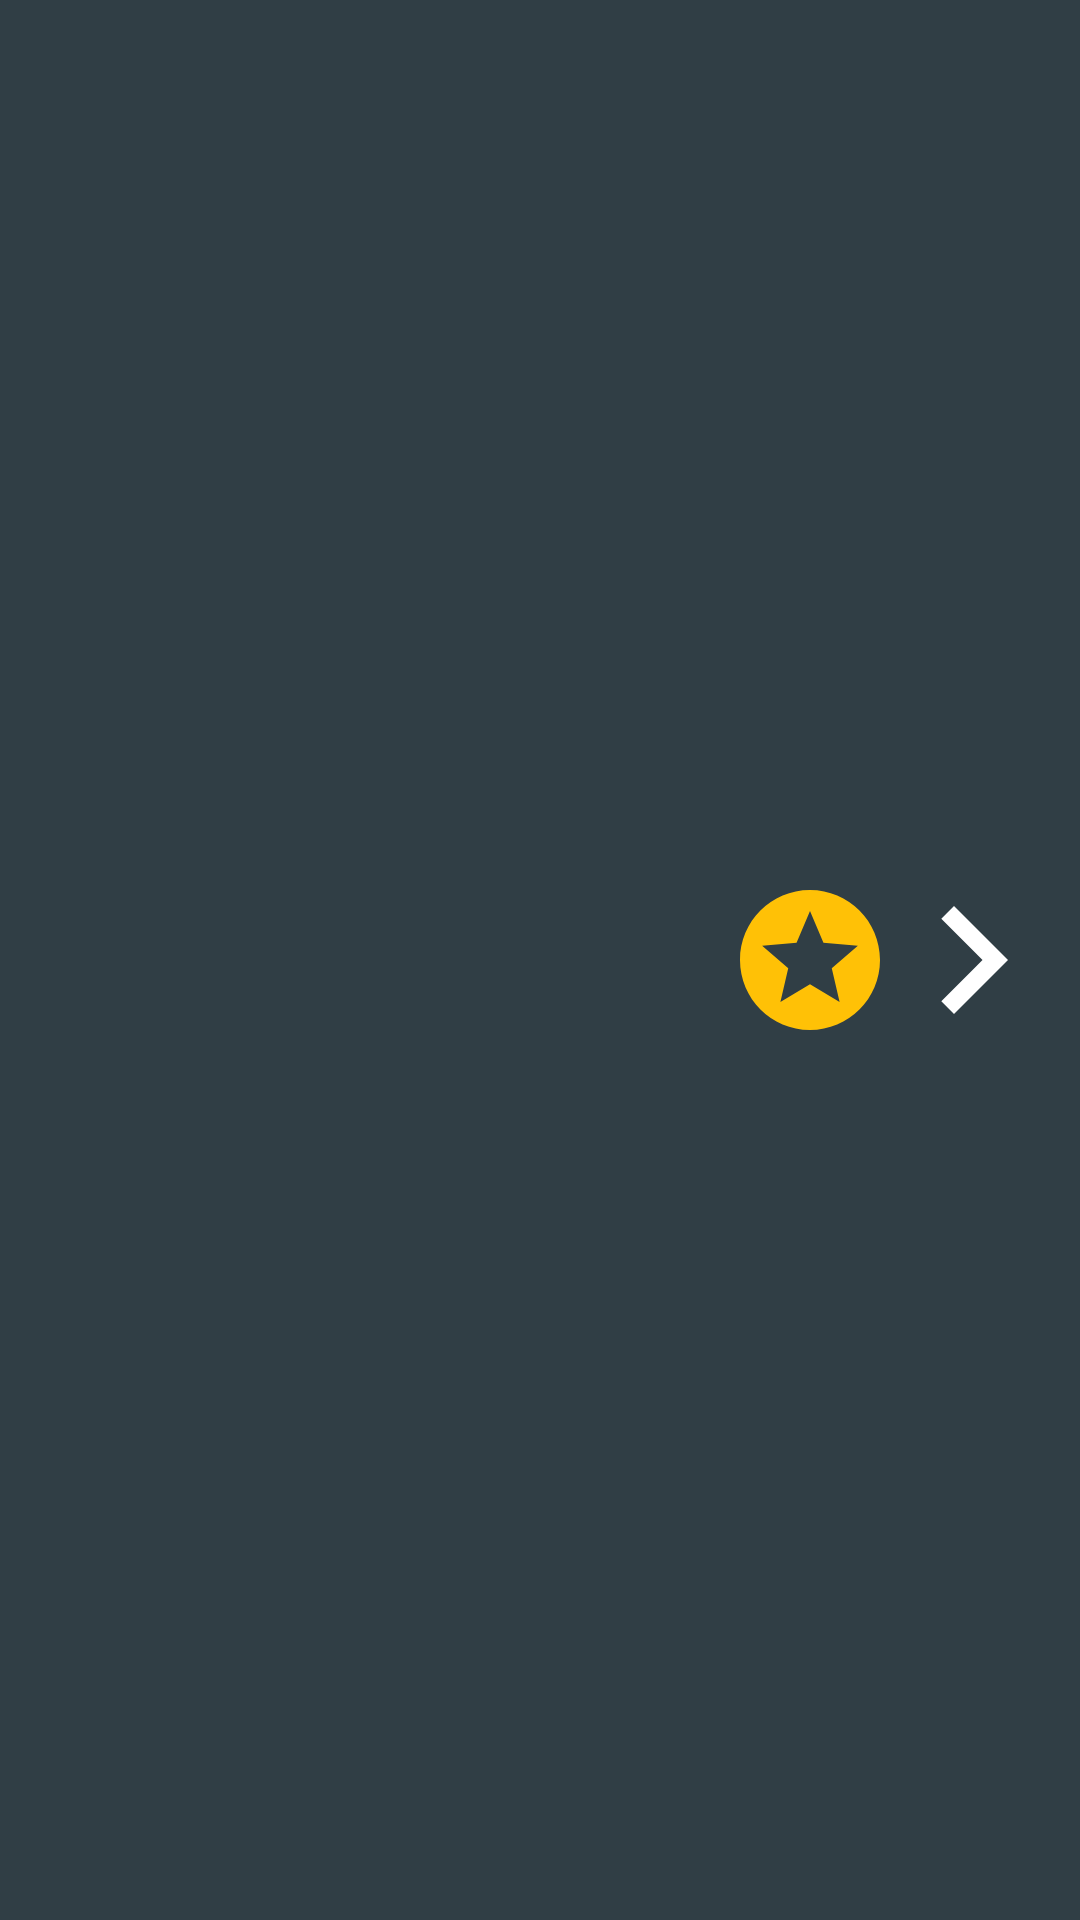

Icon bounding boxes for this 1080px x 1920px phone screenshot, format (x1, y1, x2, y2):
arrow right: (941, 906, 1008, 1014)
stars: (740, 890, 880, 1030)
